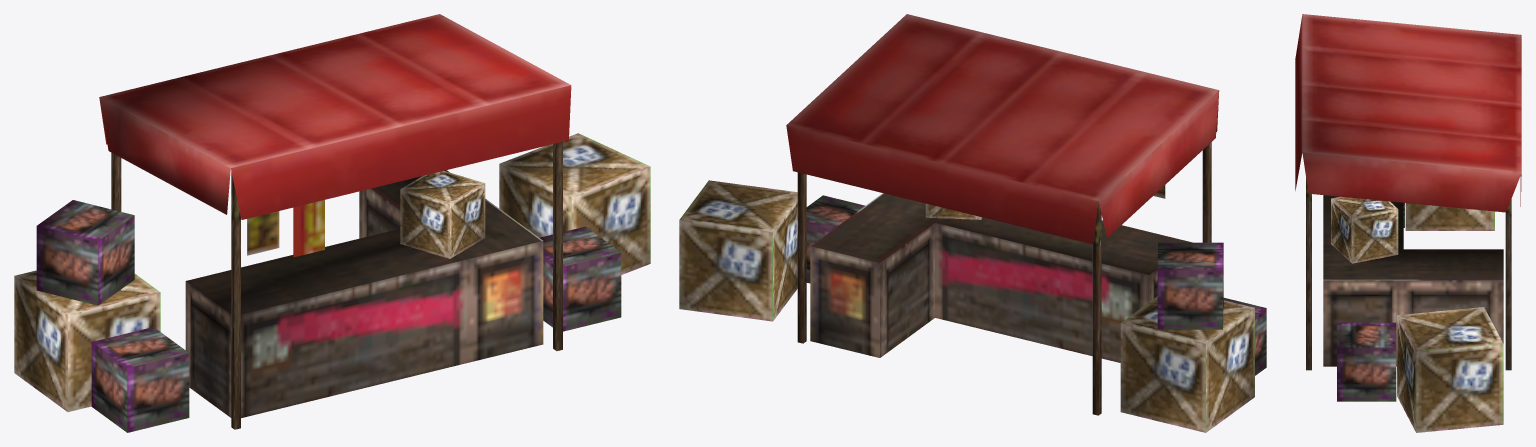
The model's file is USA - Prop - Junk Dealer - PAJunkDlr.glb.
3 renders of one model, left to right at view 1: azimuth 30°, elevation 25°; view 2: azimuth 150°, elevation 25°; view 3: azimuth 270°, elevation 25°, orthographic. The views are drawn at different scales.
Parts seen in each view (by area): view 1: PAJUNKDLR; view 2: PAJUNKDLR; view 3: PAJUNKDLR.
Part boxes in pixels (x1,y1,x2,y2): PAJUNKDLR: [14, 14, 650, 432]; PAJUNKDLR: [679, 14, 1266, 432]; PAJUNKDLR: [1295, 14, 1521, 432].
Size of the model in its own units: 38.46 by 16.5 by 15.34.
Materials: 1 (1 with a texture image).
